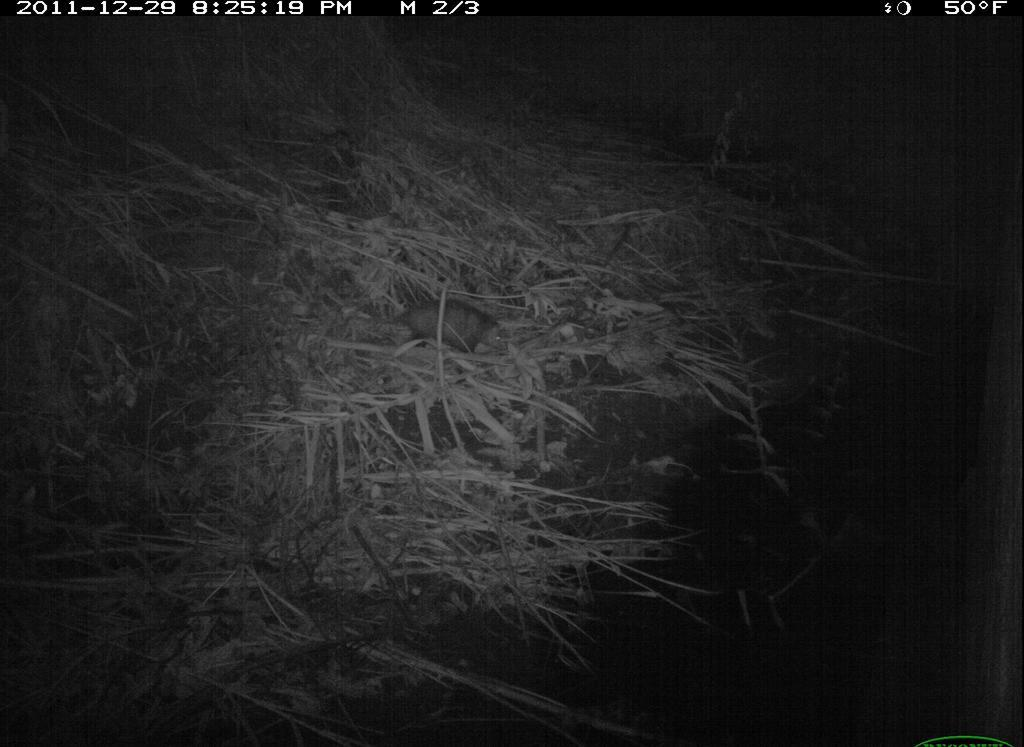opossum: (356, 292, 513, 365)
